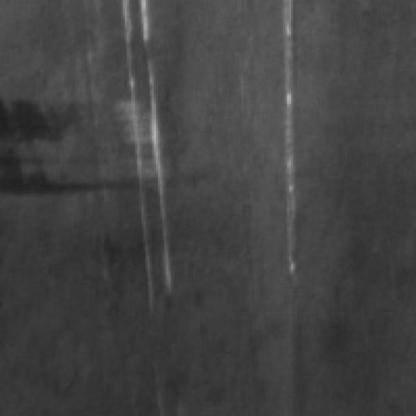inclusion: (4, 96, 179, 193)
scratches: (119, 0, 181, 304), (275, 0, 308, 272)
